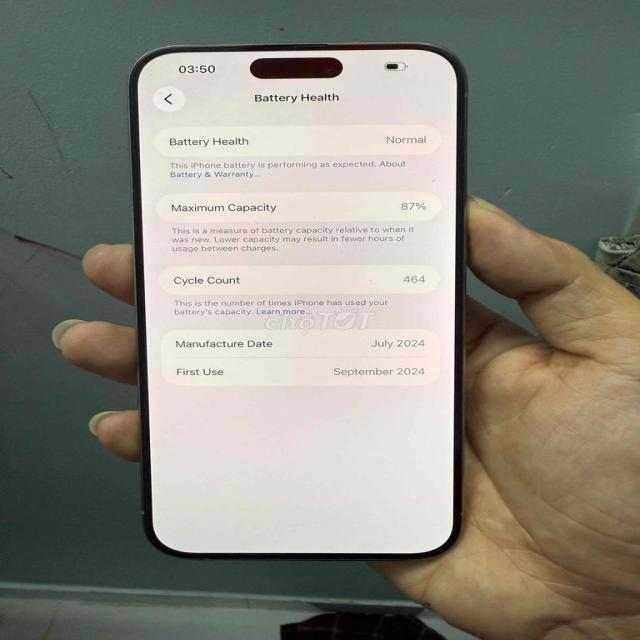gen_15: (120, 35, 473, 584)
